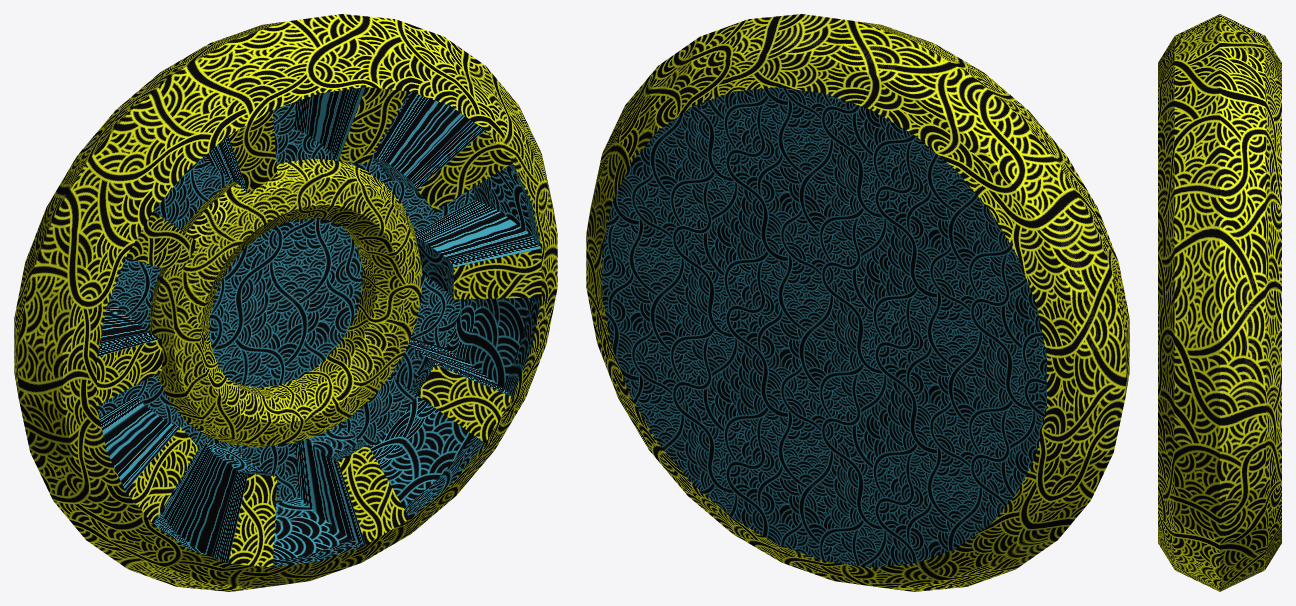
The model's file is SecondLevelBar.fbx.
3 views of the same model, side by side, from view 1: azimuth 30°, elevation 25°; view 2: azimuth 150°, elevation 25°; view 3: azimuth 270°, elevation 25° (orthographic). The views are drawn at different scales.
Parts seen in each view (by area): view 1: Torus; view 2: Torus; view 3: Torus.
Boxes of the visible parts, x1,y1,x2,y2 form: Torus: (14,14,557,591); Torus: (586,14,1129,591); Torus: (1158,14,1281,591).
Bounding box in the file's own units: 497 × 500 × 107.
